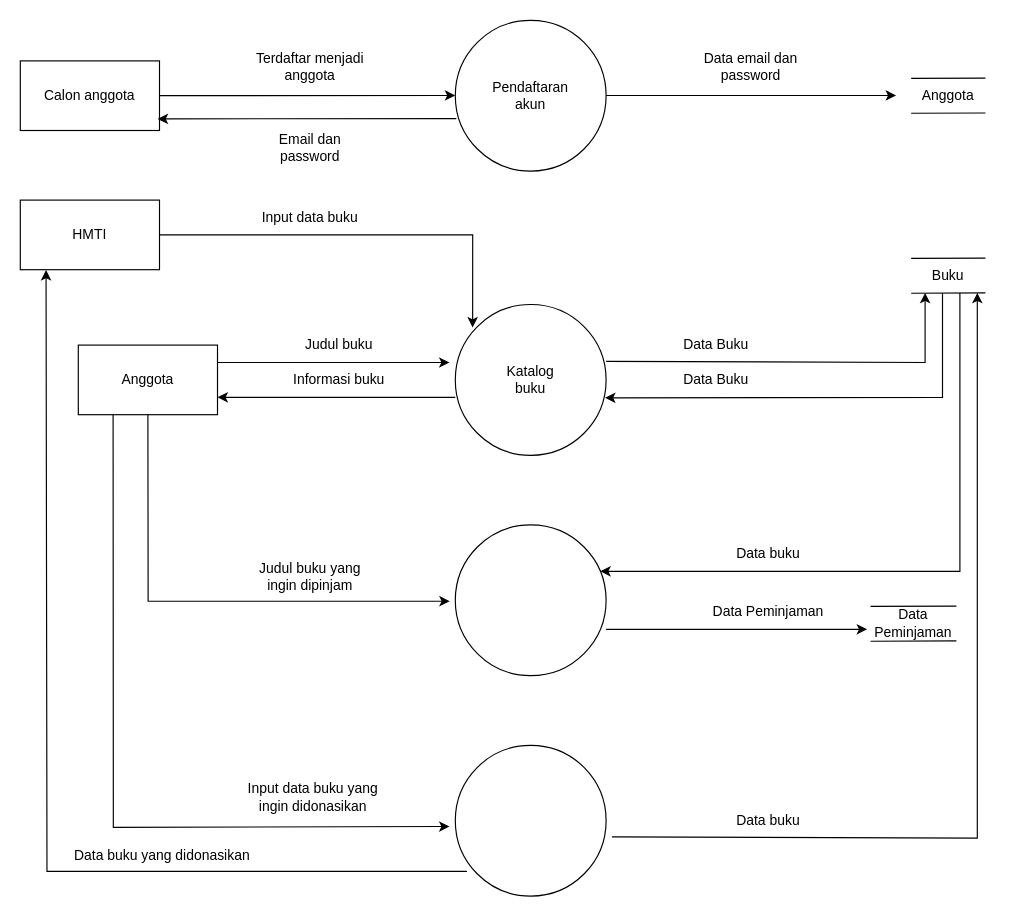
Some shapes in this 1027 by 916 pixel diagram are drawn without their labels. The shapes that lost their labels are listed below. From the top down, each one's centre as x and y in pixels, then its label:
the point at 530,600: Peminjaman buku
the point at 530,820: Pendonasian buku
